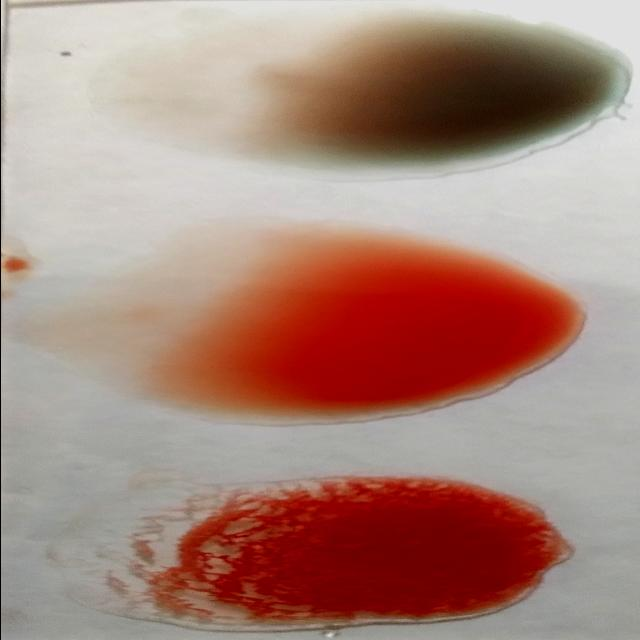D: (83, 480, 559, 628)
